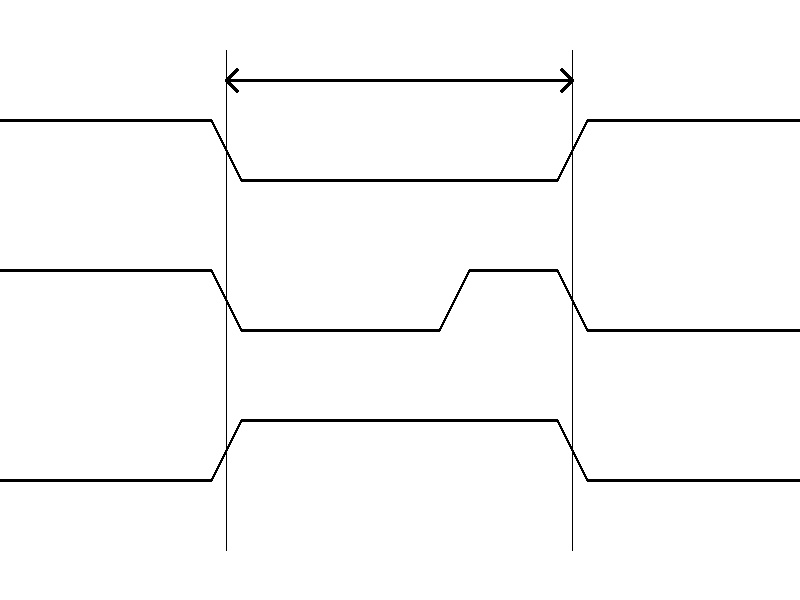double_arrow: (226, 65, 572, 95)
